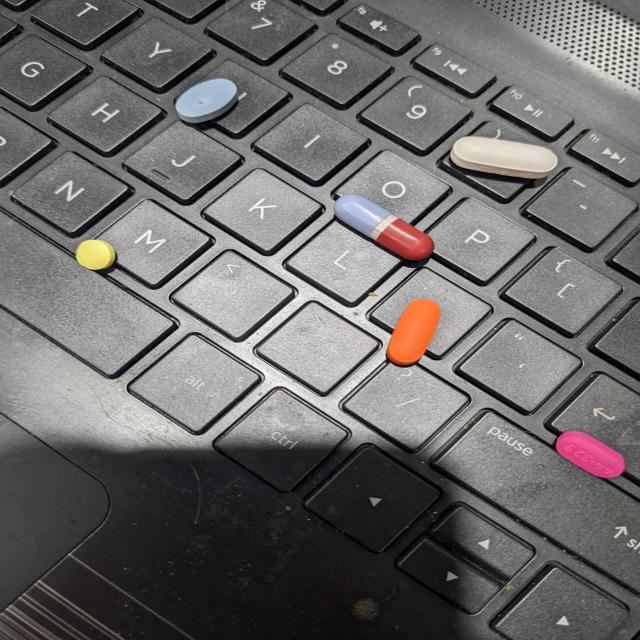non-organic waste: (333, 193, 436, 262), (449, 136, 559, 180), (384, 298, 442, 366), (554, 430, 626, 479), (175, 78, 240, 124), (74, 238, 118, 272)
